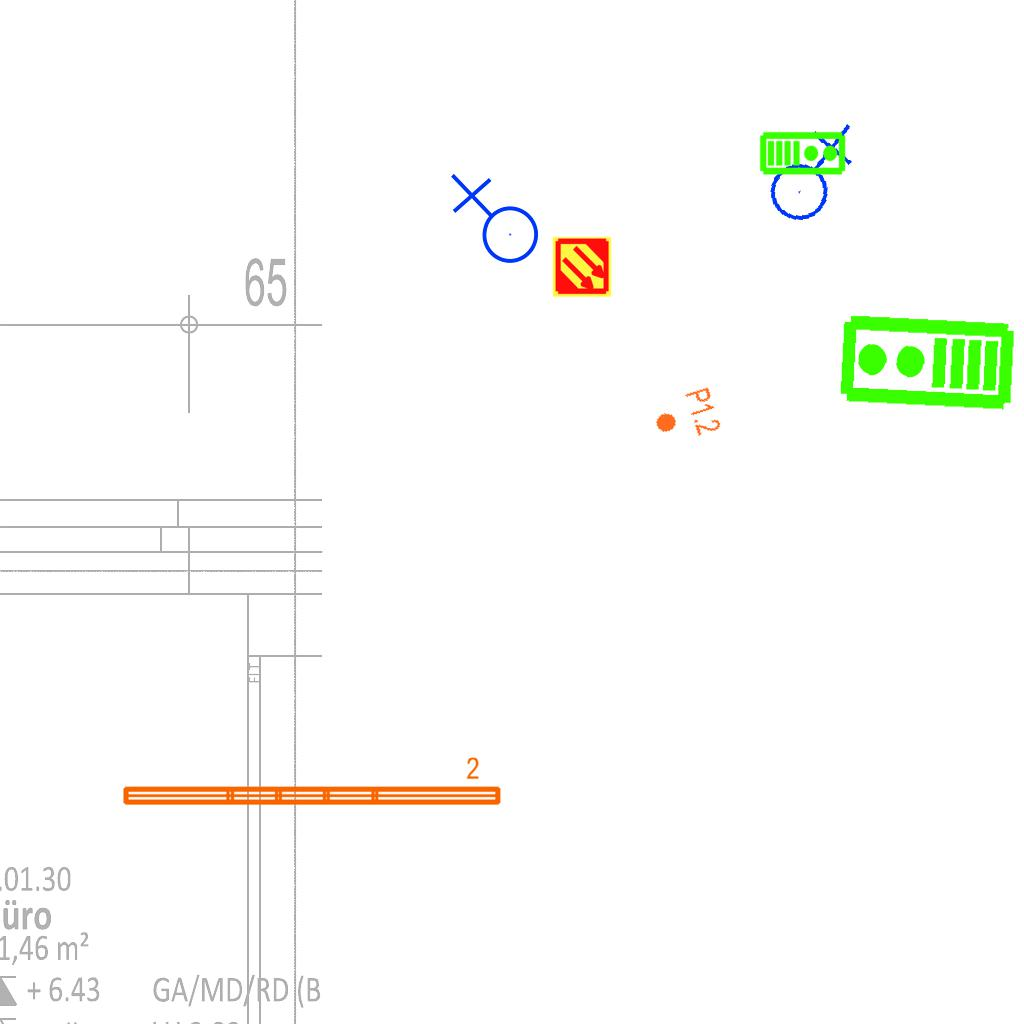ASR_Ansaugrauchmelder: (551, 236, 613, 298)
Ambulanz_Pendelleuchte_LED: (118, 755, 505, 811)
Downlight_LED_Einbauleuchten_Flur: (648, 385, 724, 449)
Elektroanschluss_allgemein_230V_Geraeteanschlussdose_230V: (752, 118, 865, 228), (446, 173, 540, 272)
Gegensprechanlage_mit_Video: (836, 311, 1017, 417), (759, 129, 847, 176)
